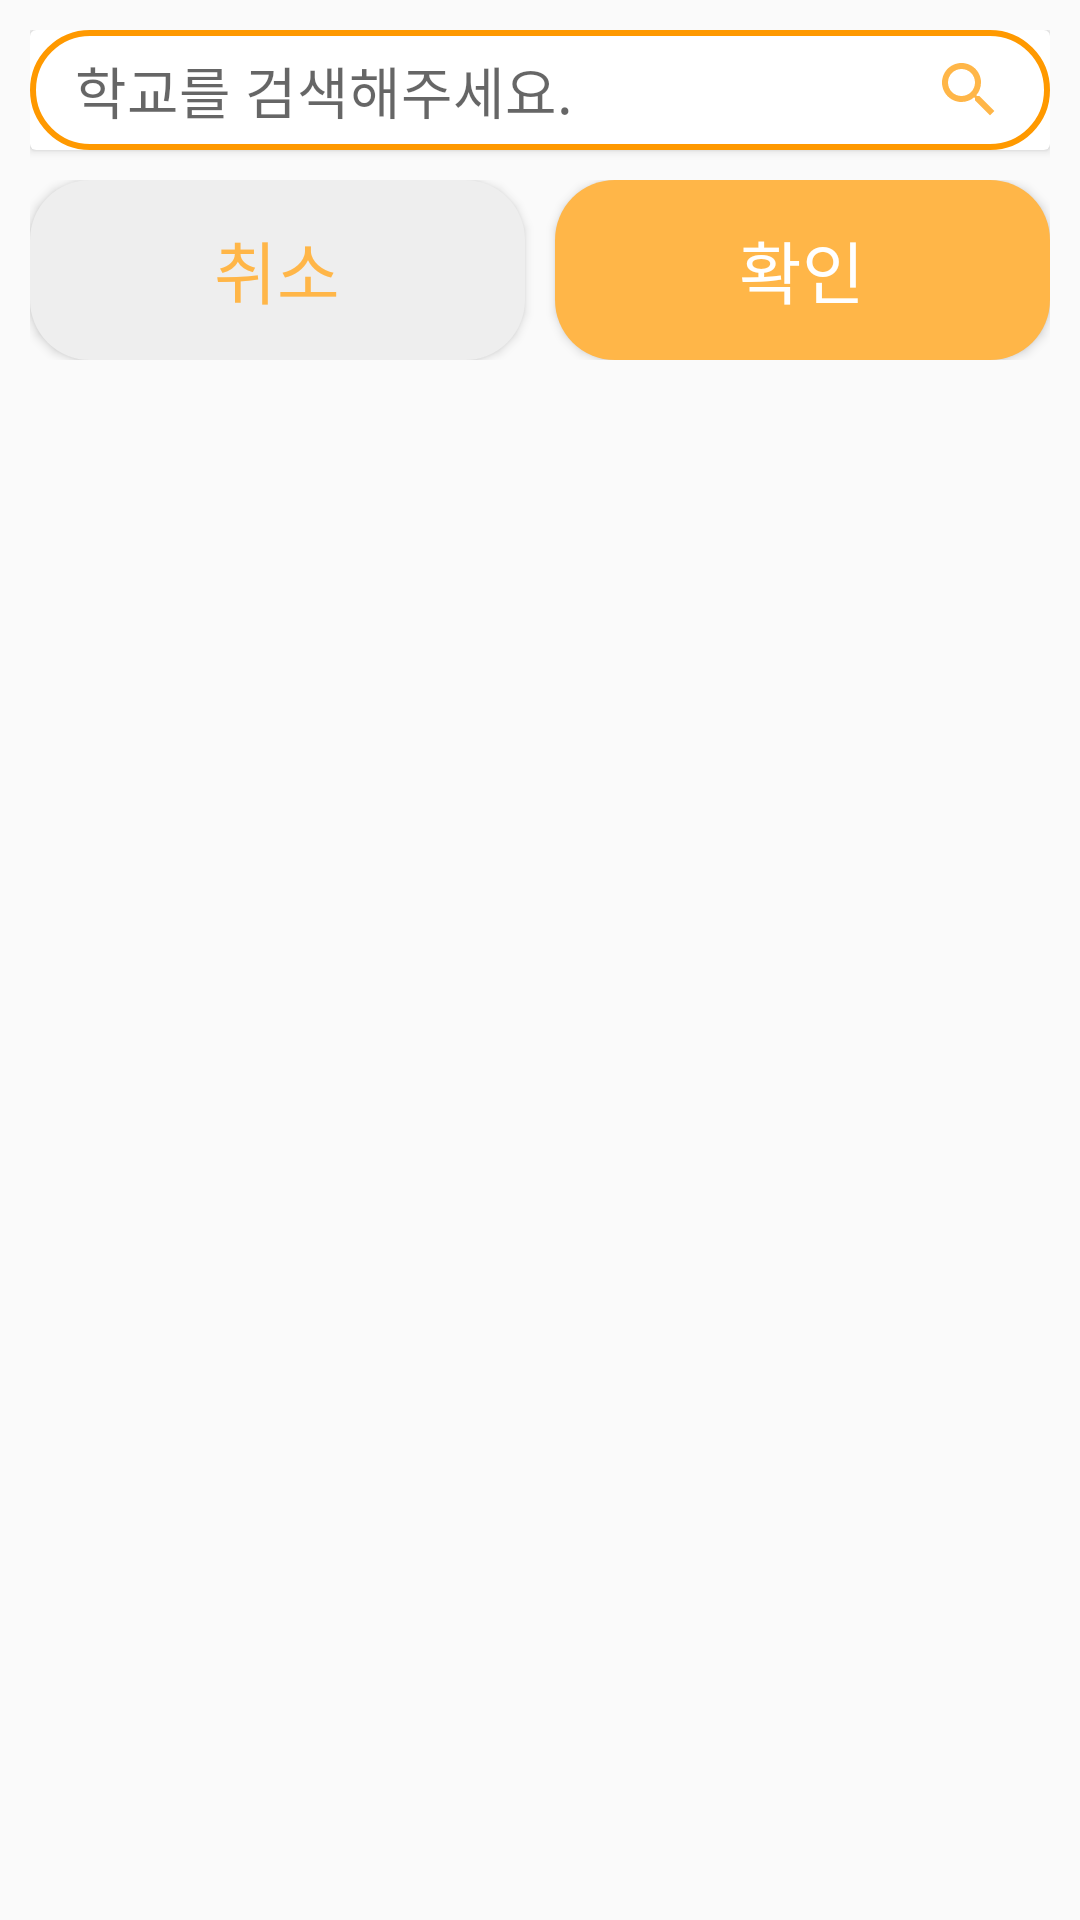

Icon bounding boxes for this 1080 × 1920 phone screenshot, format {"x1": x1, "y1": y1, "x2": x2, "y2": y2}:
search: {"x1": 933, "y1": 30, "x2": 1005, "y2": 150}
